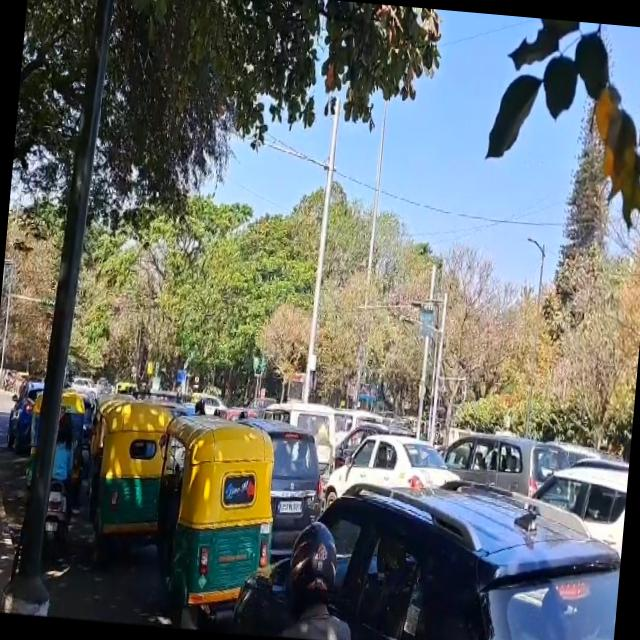cars: (317, 479, 626, 640), (326, 429, 466, 519), (255, 429, 329, 558), (445, 432, 577, 504)
